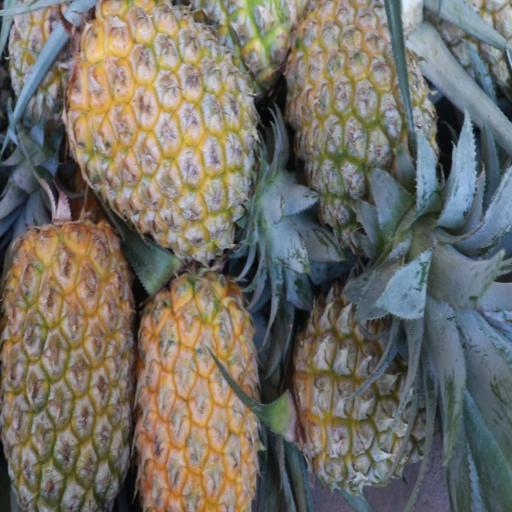------------------------------: (291, 0, 433, 238), (298, 274, 432, 484), (7, 0, 80, 110)
Pineapple - v8 v1: (76, 0, 260, 247), (3, 229, 130, 508), (136, 281, 256, 511)
